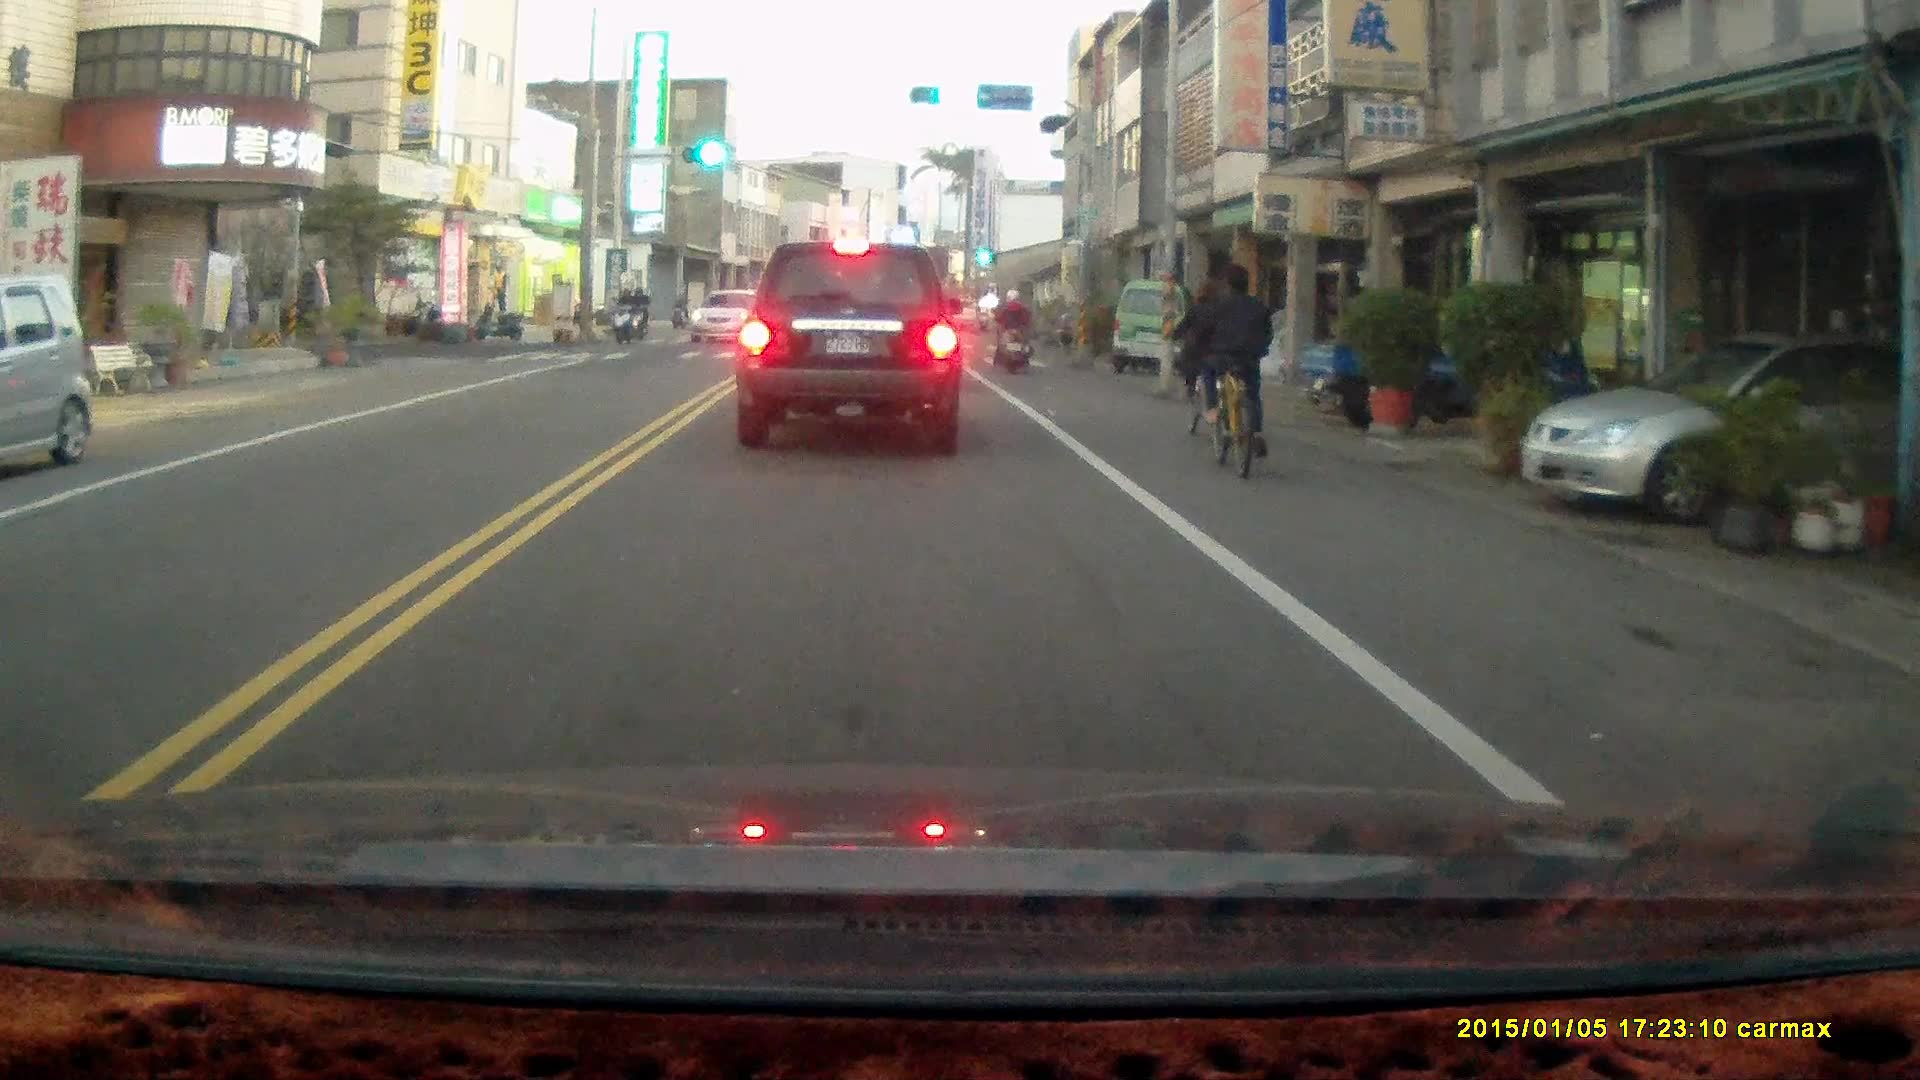pedestrian: (489, 261, 509, 312)
rider: (1195, 262, 1274, 476), (1172, 278, 1234, 444), (987, 285, 1037, 372), (608, 281, 641, 345), (668, 289, 689, 324)
vehicle: (1518, 330, 1920, 526), (738, 235, 966, 454), (1, 272, 100, 481), (1117, 278, 1209, 368), (683, 286, 779, 347)
